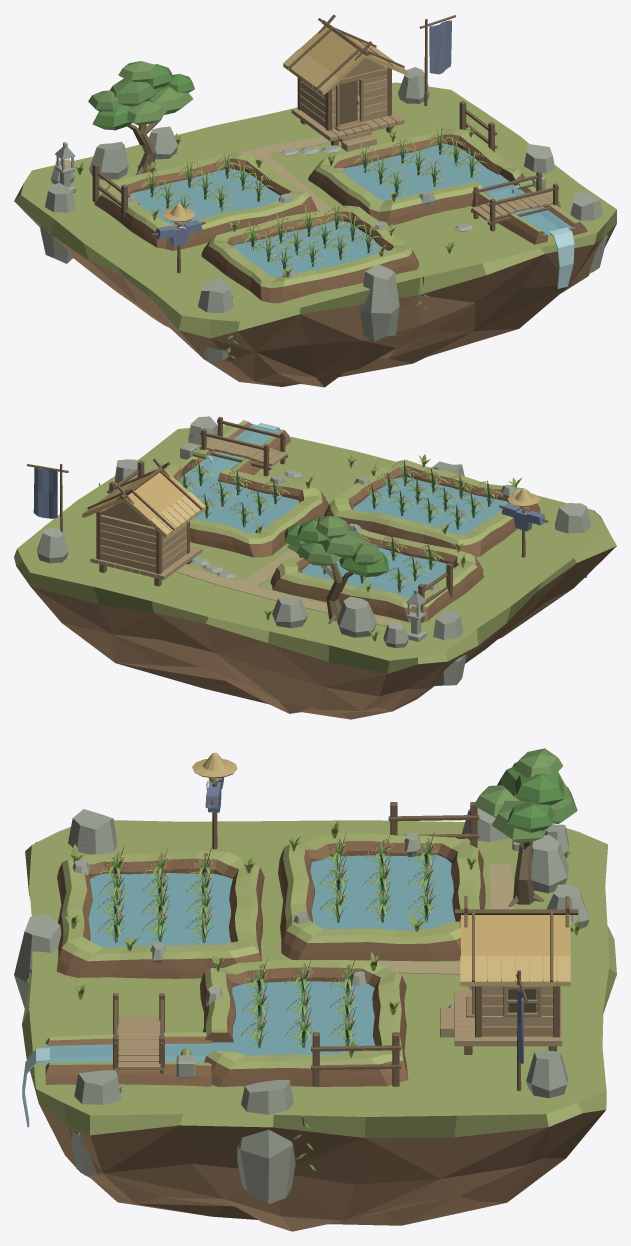
The model's file is paddy-sandbox-v4.quant.glb.
3 renders of one model, top to bottom at view 1: azimuth 30°, elevation 25°; view 2: azimuth 150°, elevation 25°; view 3: azimuth 270°, elevation 25°, orthographic. The views are drawn at different scales.
Parts seen in each view (by area): view 1: Base_Full_FloatingIsland, Ridge_B_System, Ridge_C_System, Ridge_A_System, Plot_B_Water, Tree_Full, House_Full, Plot_C_Water, Plot_A_Water, Base_Embedded_Stone_01, House_Full__Roof_Left, Base_Embedded_Stone_04 (+13 smaller); view 2: Base_Full_FloatingIsland, Ridge_C_System, Ridge_A_System, Ridge_B_System, House_Full, Plot_B_Water, Plot_C_Water, Tree_Full, Plot_A_Water, House_Full__Roof_Left, Path_RearTerrace, Stone_Rear_Cluster_00 (+12 smaller); view 3: Base_Full_FloatingIsland, Ridge_B_System, Ridge_C_System, Ridge_A_System, Plot_B_Water, Plot_A_Water, Plot_C_Water, House_Full, Tree_Full, Base_Embedded_Stone_03, House_Full__Roof_Right, Bridge_Full (+12 smaller).
Boxes of the visible parts, bbox=[...] form: Base_Full_FloatingIsland: bbox=[14, 82, 616, 387]; Ridge_B_System: bbox=[308, 128, 587, 244]; Ridge_C_System: bbox=[201, 205, 419, 303]; Ridge_A_System: bbox=[94, 152, 316, 250]; Plot_B_Water: bbox=[344, 143, 575, 235]; Tree_Full: bbox=[88, 61, 194, 130]; House_Full: bbox=[283, 18, 407, 141]; Plot_C_Water: bbox=[233, 220, 387, 277]; Plot_A_Water: bbox=[130, 168, 280, 224]; Base_Embedded_Stone_01: bbox=[361, 264, 399, 341]; House_Full__Roof_Left: bbox=[300, 27, 365, 94]; Base_Embedded_Stone_04: bbox=[40, 182, 75, 263]; Base_Full_FloatingIsland: bbox=[14, 425, 616, 719]; Ridge_C_System: bbox=[324, 459, 540, 557]; Ridge_A_System: bbox=[270, 528, 484, 622]; Ridge_B_System: bbox=[166, 420, 328, 557]; House_Full: bbox=[82, 462, 205, 579]; Plot_B_Water: bbox=[178, 423, 299, 532]; Plot_C_Water: bbox=[353, 477, 509, 534]; Tree_Full: bbox=[284, 515, 389, 576]; Plot_A_Water: bbox=[302, 547, 453, 597]; House_Full__Roof_Left: bbox=[124, 470, 188, 537]; Path_RearTerrace: bbox=[177, 566, 401, 626]; Stone_Rear_Cluster_00: bbox=[337, 596, 376, 637]; Base_Full_FloatingIsland: bbox=[22, 820, 616, 1231]; Ridge_B_System: bbox=[45, 960, 408, 1086]; Ridge_C_System: bbox=[56, 851, 264, 978]; Ridge_A_System: bbox=[278, 833, 485, 961]; Plot_B_Water: bbox=[44, 981, 374, 1065]; Plot_A_Water: bbox=[310, 855, 455, 930]; Plot_C_Water: bbox=[88, 873, 232, 947]; House_Full: bbox=[454, 896, 570, 1046]; Tree_Full: bbox=[473, 748, 577, 843]; Base_Embedded_Stone_03: bbox=[237, 1080, 295, 1203]; House_Full__Roof_Right: bbox=[461, 915, 570, 985]; Bridge_Full: bbox=[117, 1016, 160, 1069].
Bounding box in the file's own units: 6.96 × 4.26 × 5.89.
